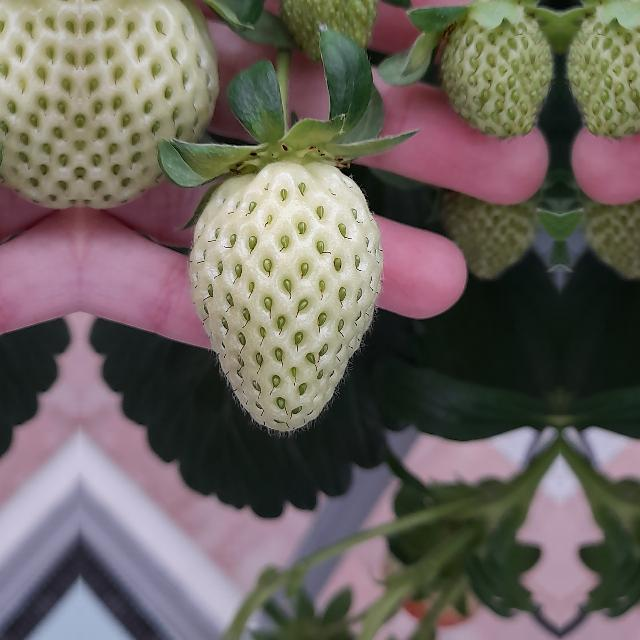Health_25: (188, 160, 384, 432), (80, 0, 216, 208), (0, 0, 80, 208), (434, 2, 554, 140), (443, 178, 547, 286), (566, 2, 640, 139), (573, 178, 640, 286), (278, 0, 382, 68)
